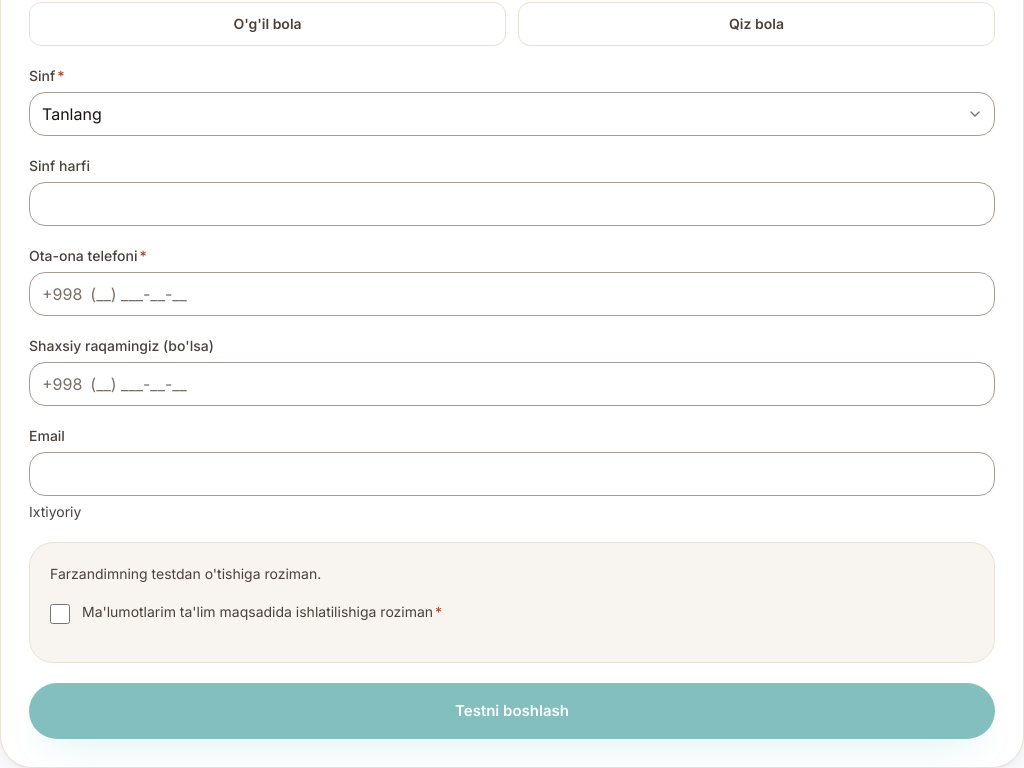
Test: RegistrationPage › rozilik belgilanmaguncha 'Testni boshlash' tugmasi o'chiq turadi
(page scrolled)
Expected: the text "Farzandimning testdan o'tishiga roziman." is shown, [50,565,321,582]
Expected: the button "Testni boshlash" is disabled, [29,683,995,739]
Click the checkbox labelled "Ma'lumotlarim ta'lim maqsadida ishlatilishiga roziman".
click(60, 614)  # box [50,604,70,624]
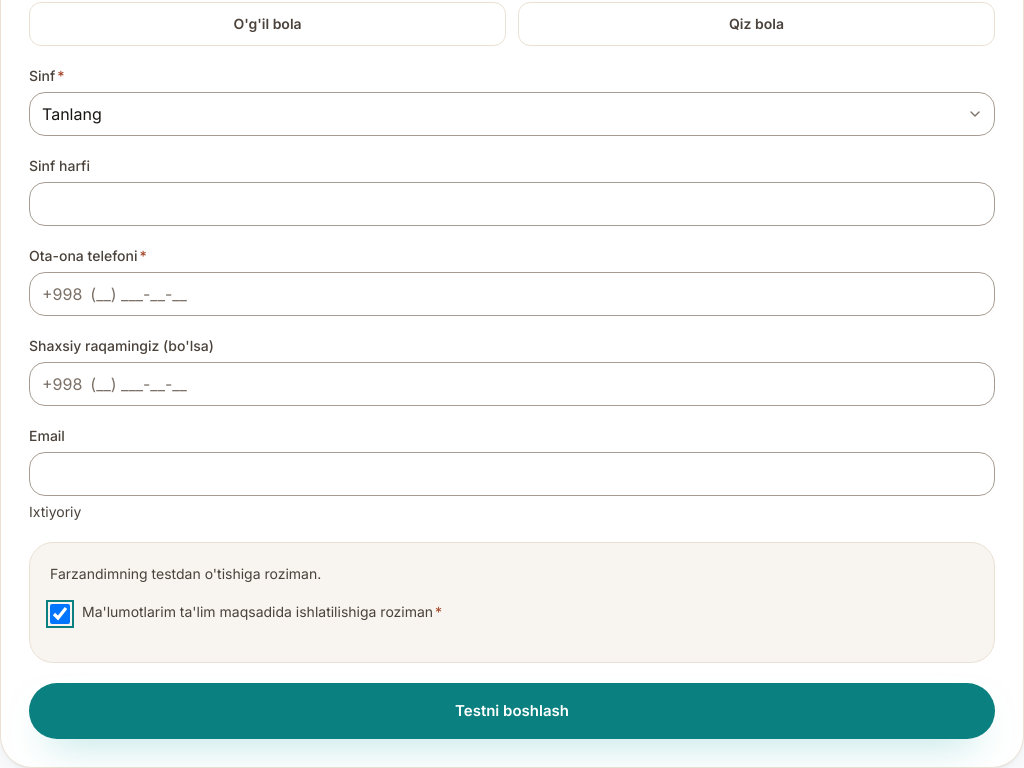
Now the button "Testni boshlash" is enabled, box [29,683,995,739]
Click the checkbox labelled "Ma'lumotlarim ta'lim maqsadida ishlatilishiga roziman".
click(60, 614)  # box [50,604,70,624]
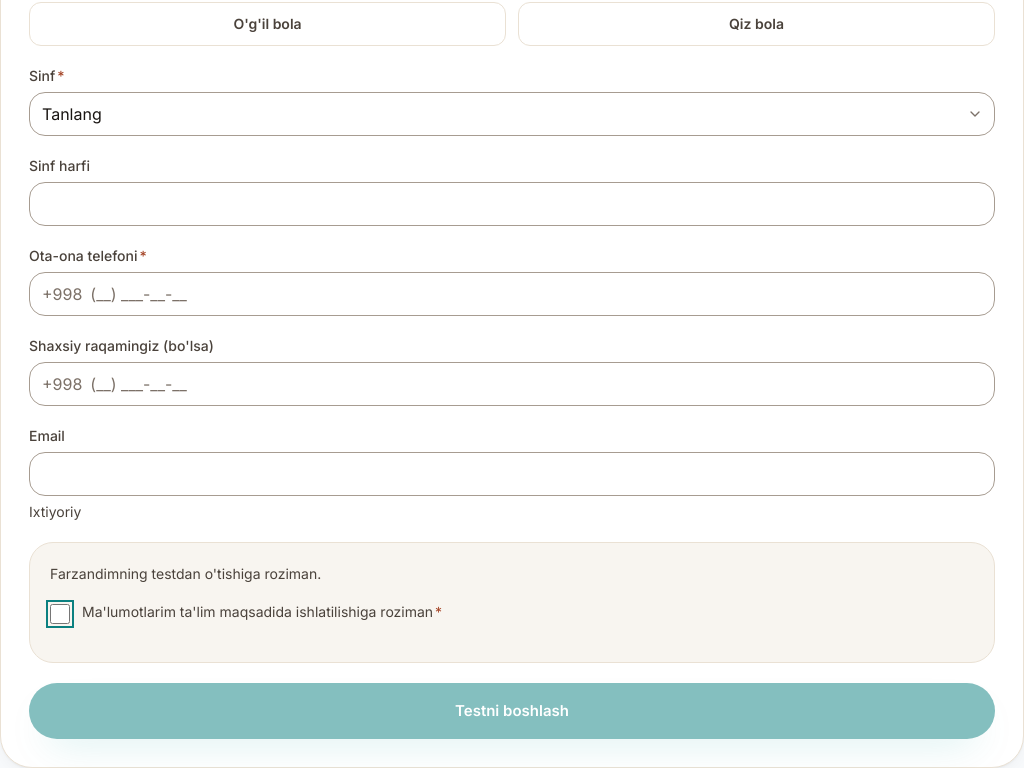
Now the button "Testni boshlash" is disabled, box [29,683,995,739]
